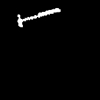half_double_crochet: (18, 8, 59, 26)
